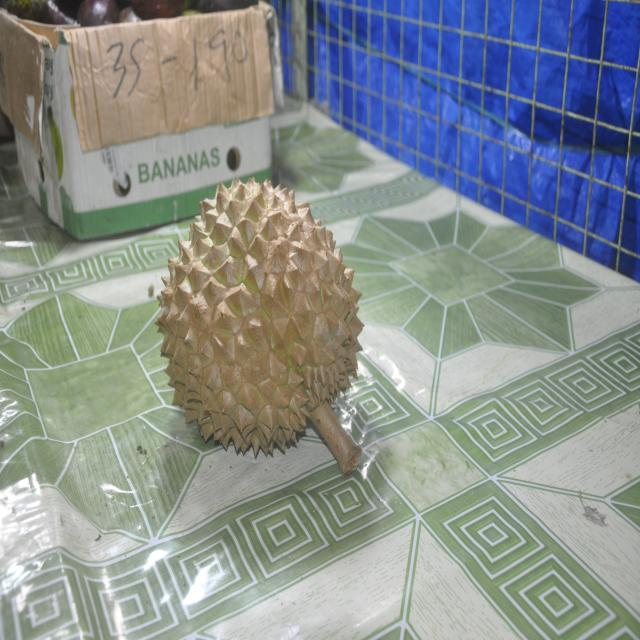mature: (156, 178, 363, 475)
